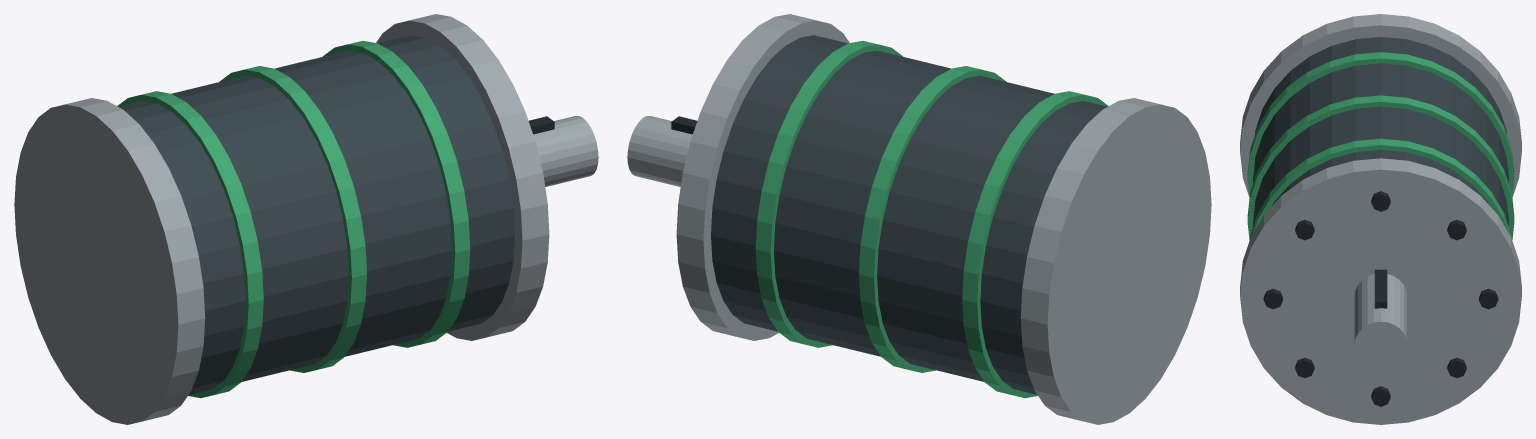
The model's file is Drives.obj.
The picture shows the model from 3 angles, left to right: view 1: azimuth 30°, elevation 25°; view 2: azimuth 150°, elevation 25°; view 3: azimuth 270°, elevation 25°; orthographic projection. The views are drawn at different scales.
Parts seen in each view (by area): view 1: FSDriveBody; view 2: FSDriveBody; view 3: FSDriveBody.
Boxes of the visible parts, left/top/right/bottom form: FSDriveBody: left=14, top=14, right=598, bottom=424; FSDriveBody: left=627, top=14, right=1211, bottom=424; FSDriveBody: left=1240, top=14, right=1521, bottom=424.
Bounding box in the file's own units: 0.4525 × 0.264 × 0.264.
